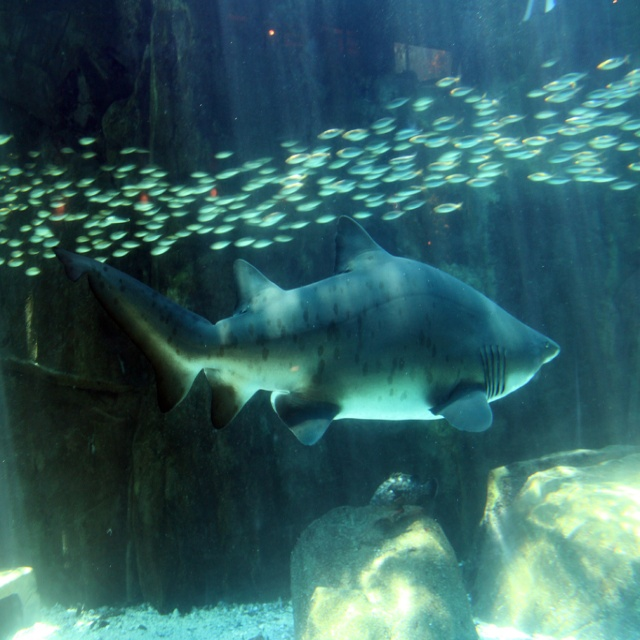Shark: (54, 210, 560, 450)
